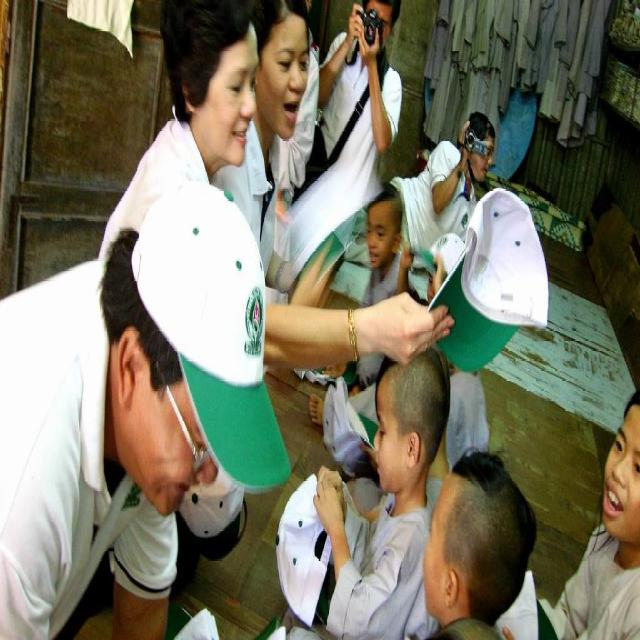Hat: (129, 184, 293, 486), (427, 188, 547, 378)
